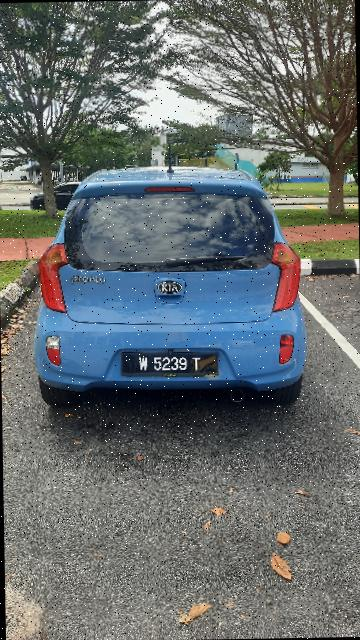License_Plate: (118, 343, 229, 383)
car: (18, 137, 314, 426)
